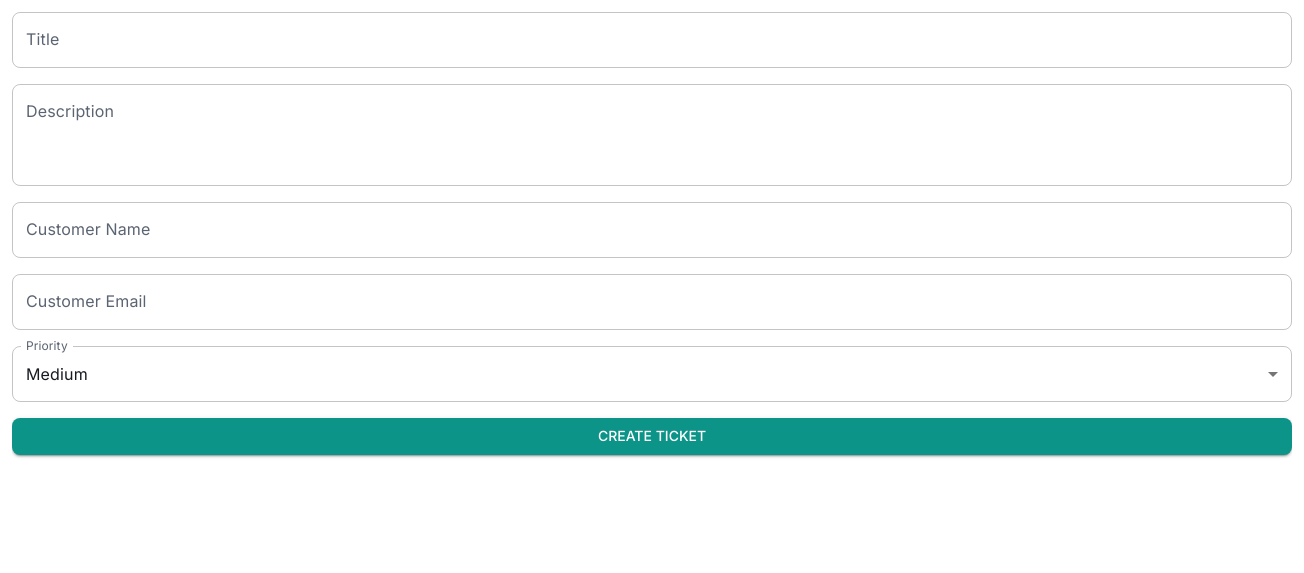
TicketForm › shows validation errors for empty required fields and does not submit
Click the button "Create Ticket".
click(652, 436)  # box 12,418 -> 1292,454
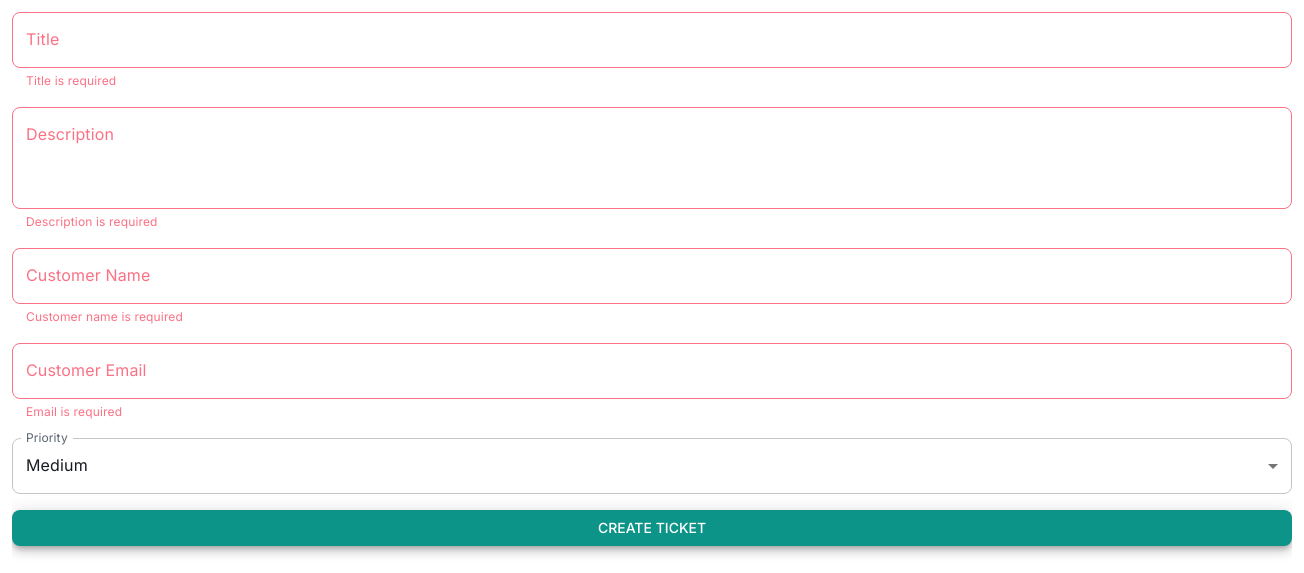
Now the text "Title is required" is shown, box 26,73 -> 116,88
Now the text "Description is required" is shown, box 26,214 -> 158,229
Now the text "Customer name is required" is shown, box 26,309 -> 183,324
